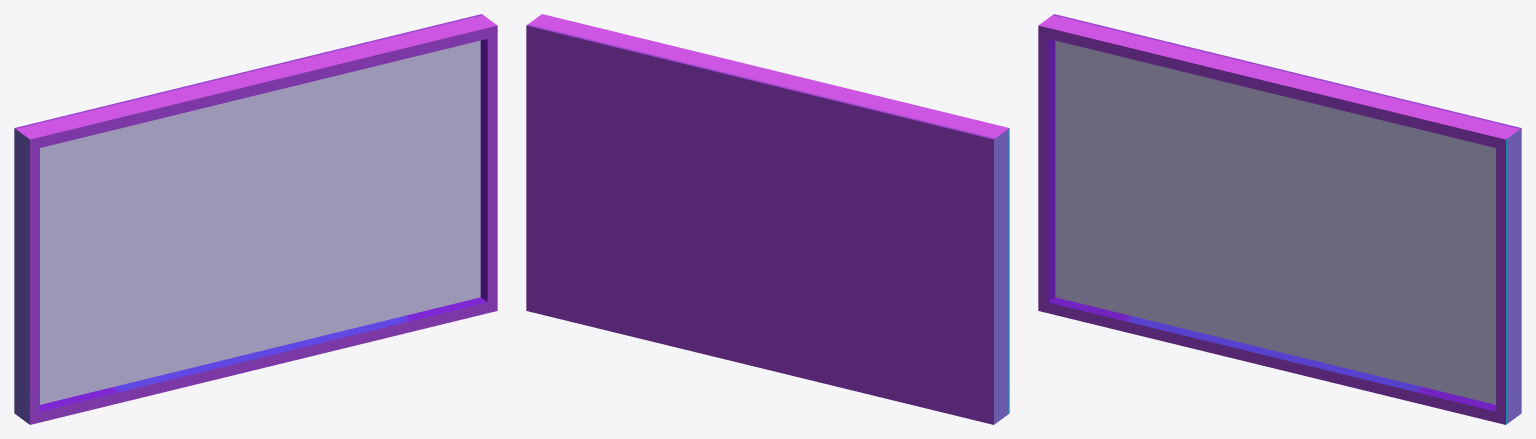
Rendered from 3d_billboard_12x7.fbx.
3 renders of one model, left to right at view 1: azimuth 30°, elevation 25°; view 2: azimuth 150°, elevation 25°; view 3: azimuth 330°, elevation 25°, orthographic.
Parts seen in each view (by area): view 1: GEO_Billboard_12x7; view 2: GEO_Billboard_12x7; view 3: GEO_Billboard_12x7.
Boxes of the visible parts, box(x1,y1,x2,y2) form: GEO_Billboard_12x7: box(14, 14, 497, 424); GEO_Billboard_12x7: box(526, 14, 1009, 424); GEO_Billboard_12x7: box(1038, 14, 1521, 424).
Size of the model in its own units: 12 by 0.7 by 7.
